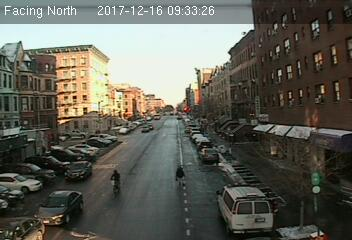bicycle: (110, 169, 123, 199)
car: (32, 189, 83, 228), (65, 161, 92, 183), (198, 147, 220, 164)
pedestrian: (175, 163, 190, 189)
police: (215, 180, 278, 238)
